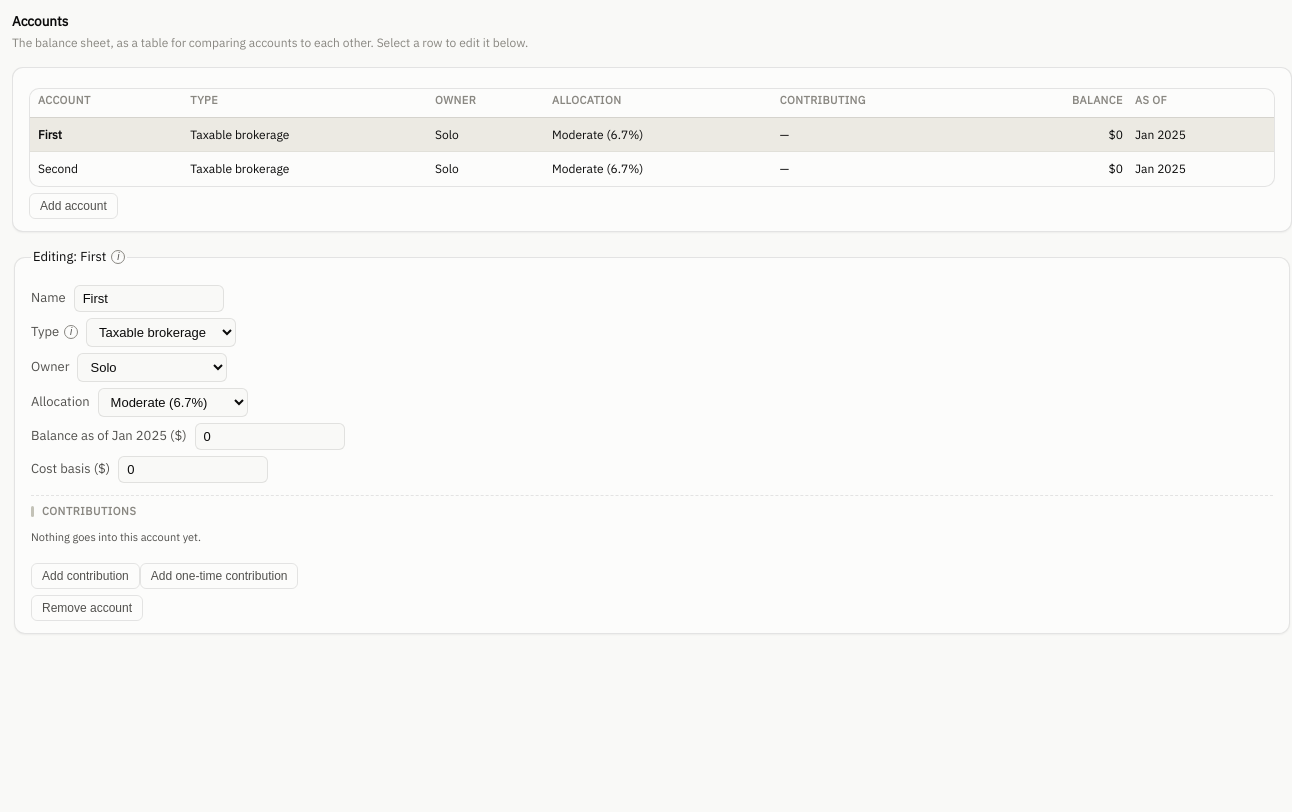
Test: AccountsSection › switches the editor to a second account when its row is selected
Check: the field labelled "Name" holds "First", box [74,284,224,312]
Click the button "Second". click: point(58, 169)
box: [38,160,78,178]
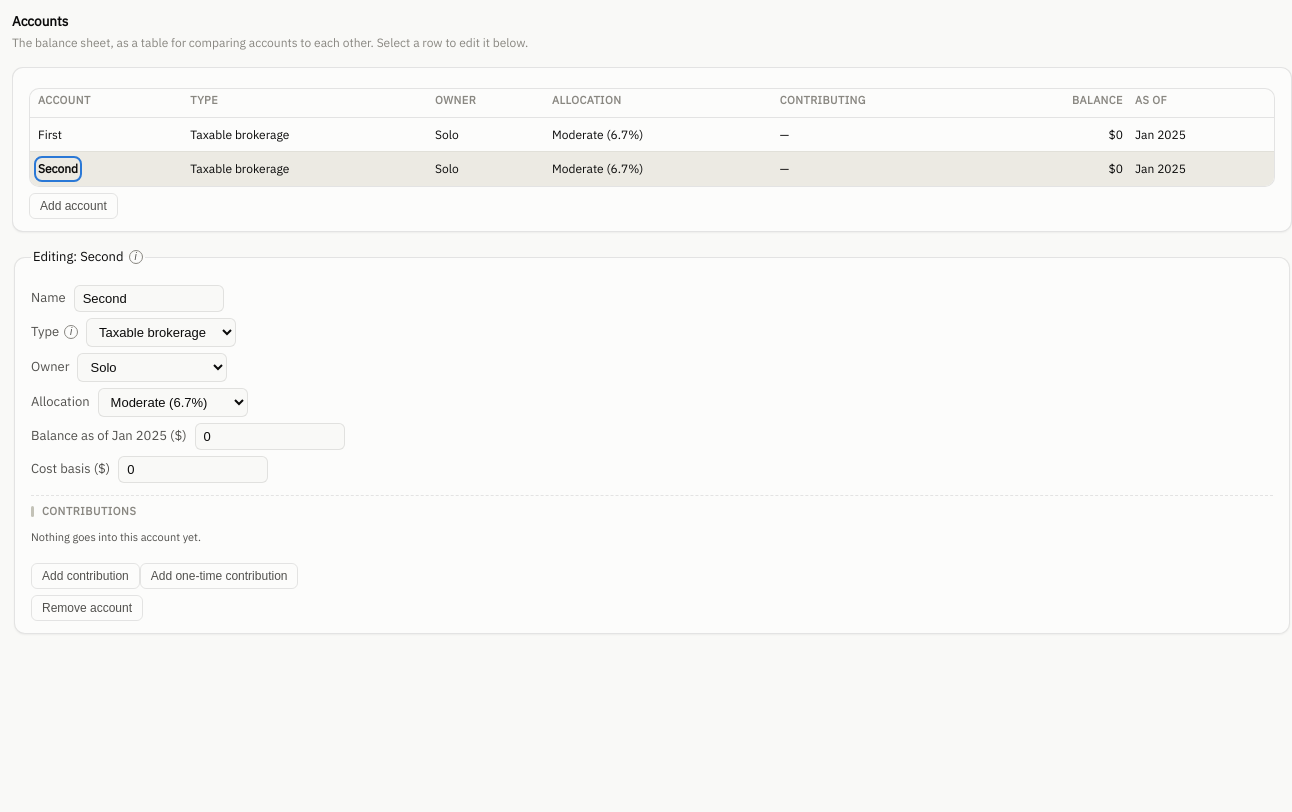
Check: the field labelled "Name" holds "Second", box [74,284,224,312]
